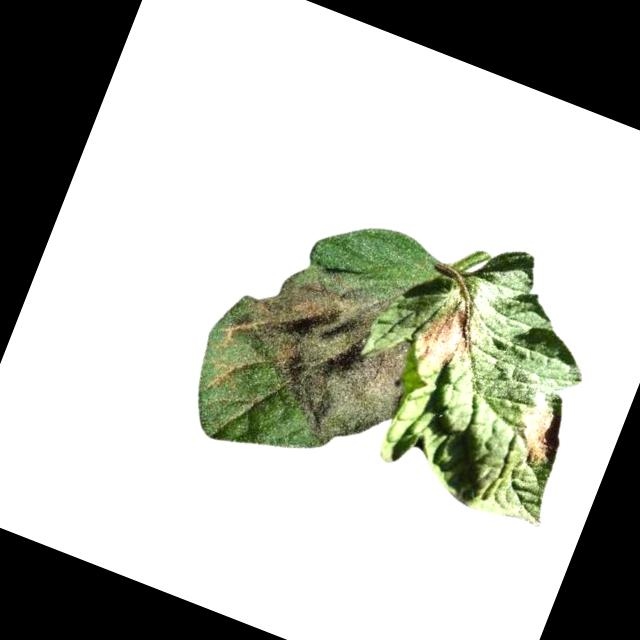Late_blight: (196, 229, 443, 469), (410, 298, 487, 383), (507, 399, 572, 475)
